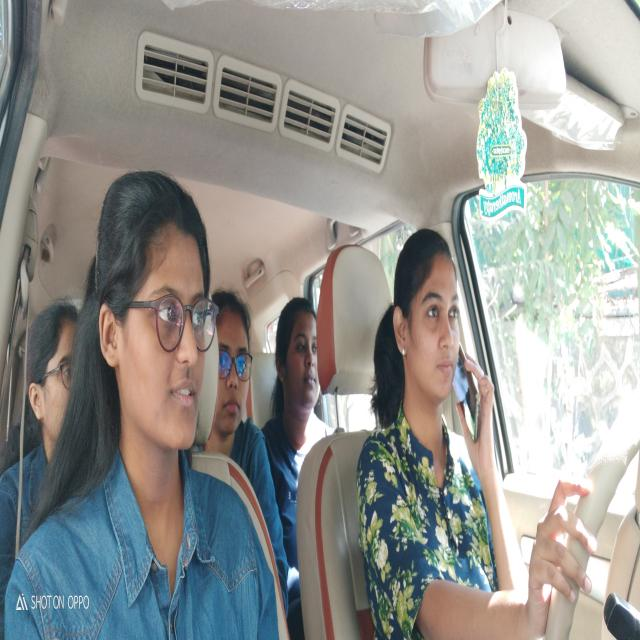mobile: (457, 344, 483, 449)
person: (96, 164, 218, 466), (391, 224, 461, 402), (25, 297, 82, 435), (213, 286, 260, 434), (276, 292, 322, 419)
